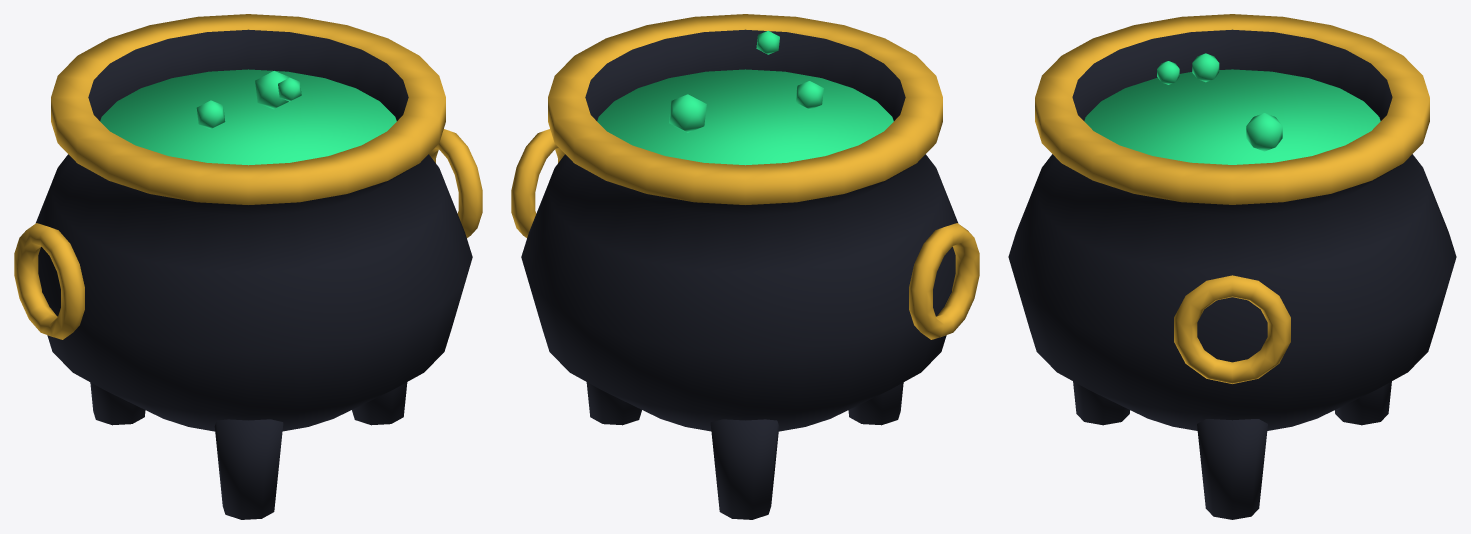
The model's file is alchemist_cauldron.obj.
3 views of the same model, side by side, from view 1: azimuth 30°, elevation 25°; view 2: azimuth 150°, elevation 25°; view 3: azimuth 270°, elevation 25° (orthographic).
Parts seen in each view (by area): view 1: AlchemistCauldron; view 2: AlchemistCauldron; view 3: AlchemistCauldron.
Part boxes in pixels (x1,y1,x2,y2): AlchemistCauldron: (14,14,482,519); AlchemistCauldron: (511,14,979,519); AlchemistCauldron: (1008,14,1456,519).
Size of the model in its own units: 6.42 by 5.75 by 6.
